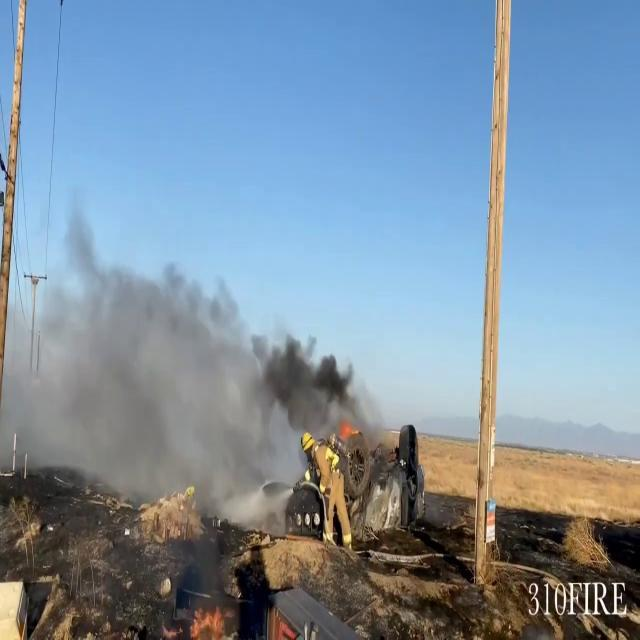Smoke: (2, 207, 362, 508)
